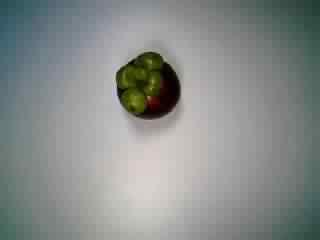mangosteen: (108, 45, 186, 121)
